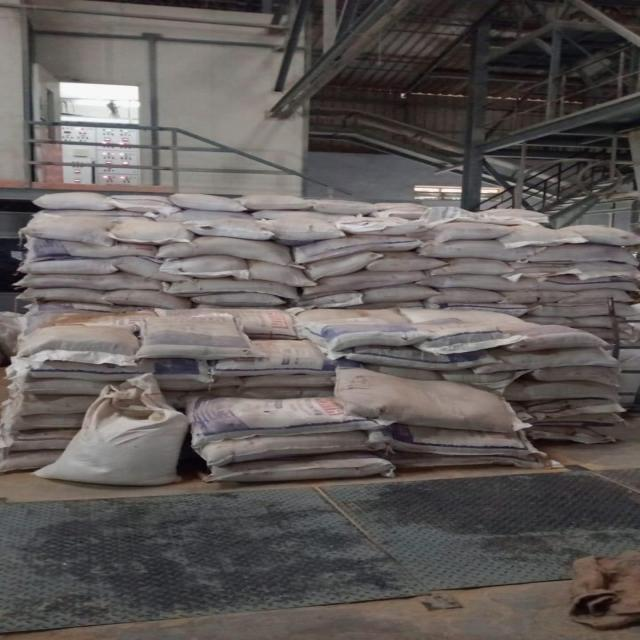gunny_bag: (29, 372, 191, 487), (331, 366, 534, 433), (180, 394, 397, 450), (190, 431, 385, 468), (133, 312, 270, 361), (367, 423, 551, 459), (12, 322, 139, 371), (296, 307, 433, 352), (207, 452, 397, 482), (205, 336, 338, 377), (153, 235, 308, 270), (324, 345, 507, 372), (155, 307, 304, 339), (292, 234, 434, 266), (473, 347, 624, 374), (13, 309, 155, 336), (415, 322, 526, 355), (21, 364, 217, 382), (303, 269, 429, 297), (159, 278, 306, 301), (16, 215, 118, 248), (10, 272, 170, 292), (416, 239, 548, 263), (522, 243, 640, 268), (305, 251, 388, 283), (390, 454, 555, 470), (421, 220, 521, 245), (502, 330, 615, 352), (179, 215, 277, 240), (413, 274, 548, 292), (104, 221, 196, 247), (500, 225, 591, 251), (504, 381, 622, 401), (157, 255, 254, 279), (108, 257, 201, 282), (522, 398, 631, 419), (258, 217, 350, 241), (334, 216, 442, 235), (0, 429, 82, 454), (528, 366, 621, 388), (527, 301, 640, 319), (249, 261, 321, 289), (399, 309, 531, 324), (561, 223, 640, 248), (14, 380, 123, 398), (11, 288, 117, 306), (97, 290, 196, 309), (237, 374, 336, 393), (362, 281, 443, 304), (29, 190, 119, 210), (166, 191, 251, 212), (15, 258, 120, 275), (535, 276, 640, 293), (14, 396, 102, 416), (428, 257, 519, 276), (527, 426, 623, 444), (105, 194, 188, 214), (68, 241, 160, 259), (0, 449, 63, 475), (425, 303, 534, 318), (502, 263, 587, 282), (8, 413, 87, 433), (530, 413, 634, 428), (426, 287, 508, 306), (362, 363, 447, 381), (155, 208, 262, 222), (230, 193, 313, 211), (190, 292, 288, 307), (252, 209, 362, 222), (36, 209, 155, 221), (20, 239, 77, 264), (367, 257, 453, 273), (291, 290, 366, 308), (479, 207, 556, 224), (575, 261, 640, 281), (557, 288, 638, 303), (159, 377, 245, 391), (312, 200, 390, 215), (369, 202, 442, 218), (498, 290, 581, 304), (572, 316, 639, 331), (440, 370, 515, 383), (579, 328, 638, 341), (345, 300, 426, 309), (611, 347, 639, 372), (522, 316, 579, 327), (240, 388, 301, 398), (187, 389, 241, 396), (301, 387, 335, 397)
